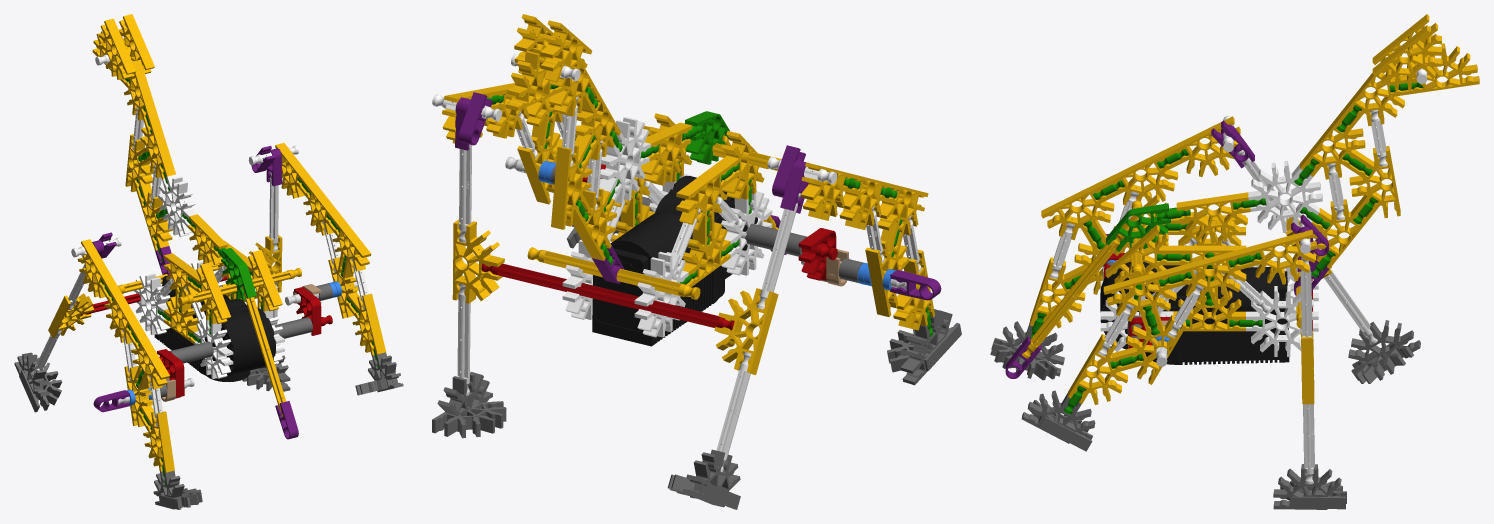
3 views of the same model, side by side, from view 1: azimuth 30°, elevation 25°; view 2: azimuth 150°, elevation 25°; view 3: azimuth 270°, elevation 25° (orthographic). The views are drawn at different scales.
Visible parts, largest first — view 1: S1_L23.002, S1_L23.003, S1_L23.006, S1_L23.004, S1_L23, S1_L23.001, S1_L23.005, S1_L23.007; view 2: S1_L23.002, S1_L23.003, S1_L23.006, S1_L23.004, S1_L23.007, S1_L23, S1_L23.005, S1_L23.001, S1_L23.009; view 3: S1_L23.002, S1_L23.003, S1_L23.006, S1_L23.001, S1_L23.004, S1_L23.007, S1_L23.
Boxes of the visible parts, box(x1,y1,x2,y2) form: S1_L23.002: box(48, 14, 385, 472); S1_L23.003: box(71, 54, 368, 426); S1_L23.006: box(14, 283, 403, 509); S1_L23.004: box(154, 275, 275, 381); S1_L23: box(92, 145, 298, 439); S1_L23.001: box(100, 78, 378, 485); S1_L23.005: box(81, 276, 332, 397); S1_L23.007: box(31, 171, 357, 404); S1_L23.002: box(442, 14, 934, 375); S1_L23.003: box(432, 53, 921, 337); S1_L23.006: box(432, 165, 961, 509); S1_L23.004: box(592, 175, 757, 346); S1_L23.007: box(457, 144, 906, 472); S1_L23: box(455, 92, 941, 300); S1_L23.005: box(481, 164, 837, 330); S1_L23.001: box(487, 84, 933, 336); S1_L23.009: box(538, 161, 896, 290); S1_L23.002: box(1022, 14, 1479, 404); S1_L23.003: box(1049, 68, 1427, 356); S1_L23.006: box(990, 262, 1420, 509); S1_L23.001: box(1030, 82, 1423, 414); S1_L23.004: box(1100, 261, 1289, 364); S1_L23.007: box(1156, 150, 1377, 484); S1_L23: box(1005, 120, 1329, 378).
Size of the model in its own units: 2.03 by 2.37 by 2.48.
